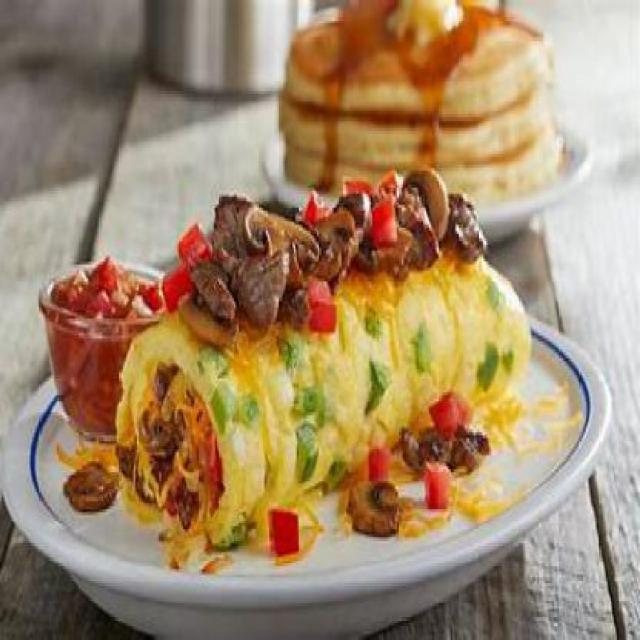omelette: (126, 272, 529, 566)
pancakes: (282, 12, 561, 196)
